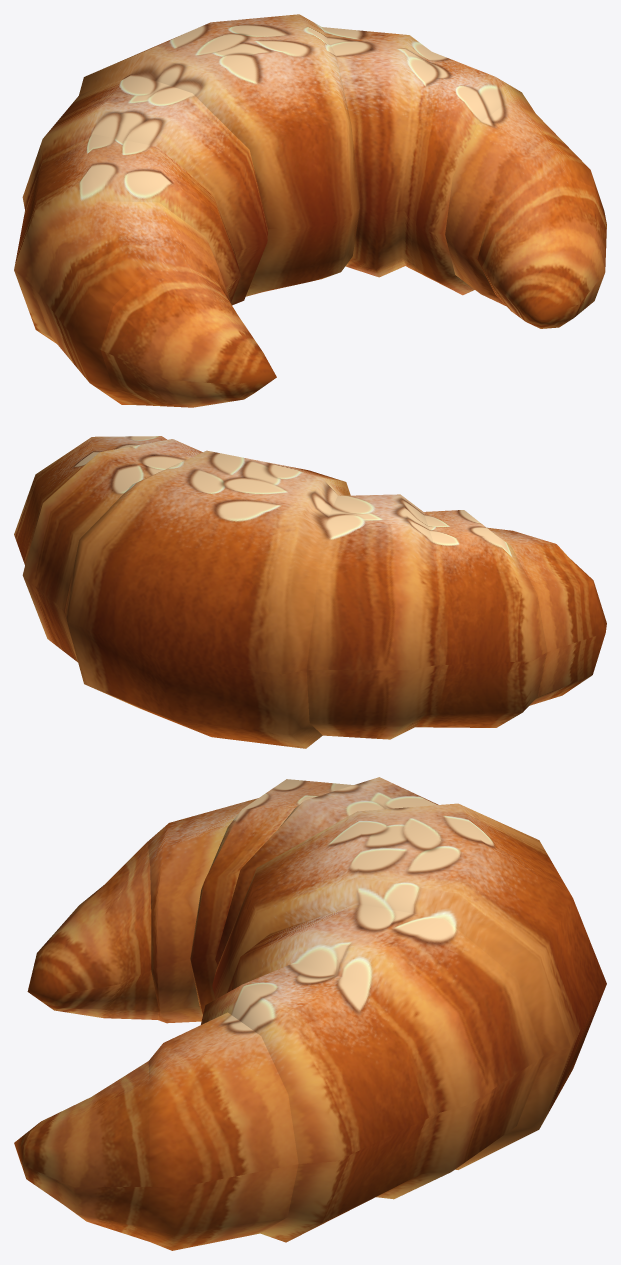
Rendered from Croissant_01.fbx.
3 views of the same model, one above another, from view 1: azimuth 30°, elevation 25°; view 2: azimuth 150°, elevation 25°; view 3: azimuth 270°, elevation 25° (orthographic). The views are drawn at different scales.
Parts seen in each view (by area): view 1: Croissant_01; view 2: Croissant_01; view 3: Croissant_01.
Boxes of the visible parts, <box> form: Croissant_01: <box>14,14,606,407</box>; Croissant_01: <box>14,436,606,748</box>; Croissant_01: <box>14,777,606,1250</box>.
Size of the model in its own units: 51.66 by 22.44 by 42.12.
